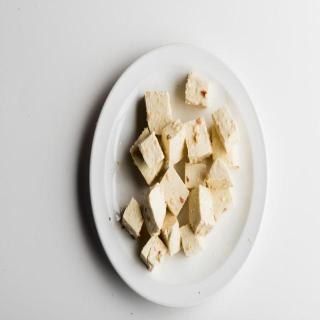Tahu: (91, 57, 274, 287)
